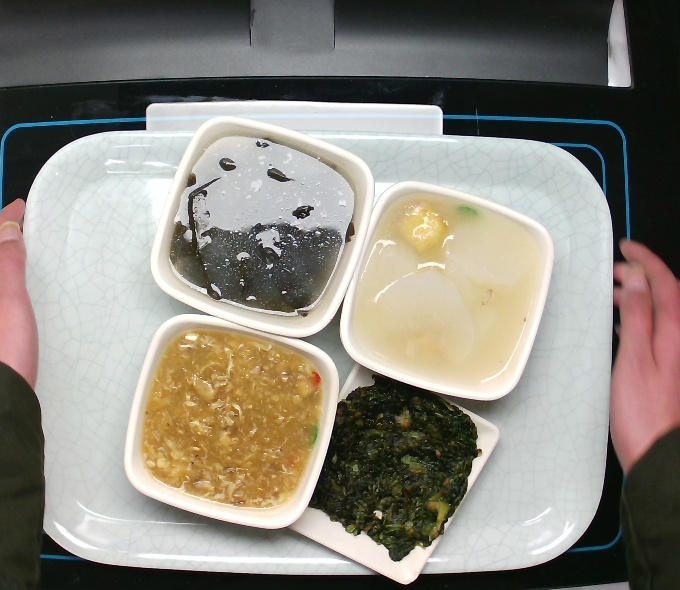wcq-HaiDaiPaiGuTang: (167, 128, 358, 317)
wcq-LuoBoYouPaoTang: (354, 192, 545, 394)
wcq-QinCaiBing: (315, 379, 479, 555)
wcq-SuanLaGeng: (140, 324, 325, 512)
